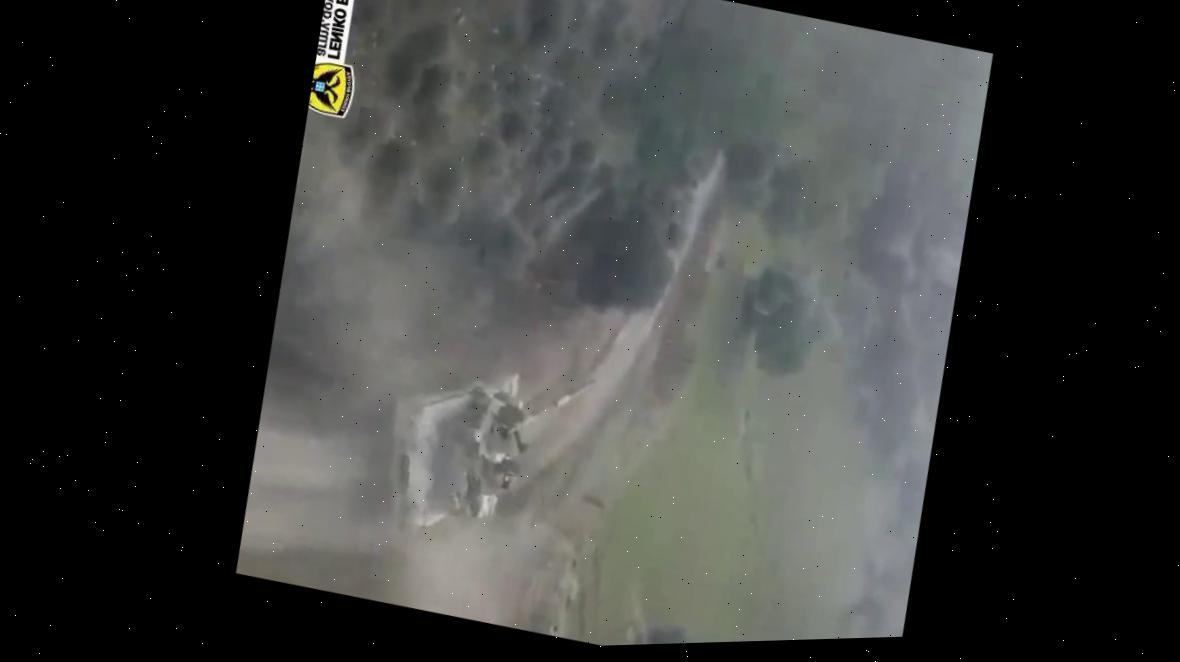tank: (354, 337, 602, 566)
